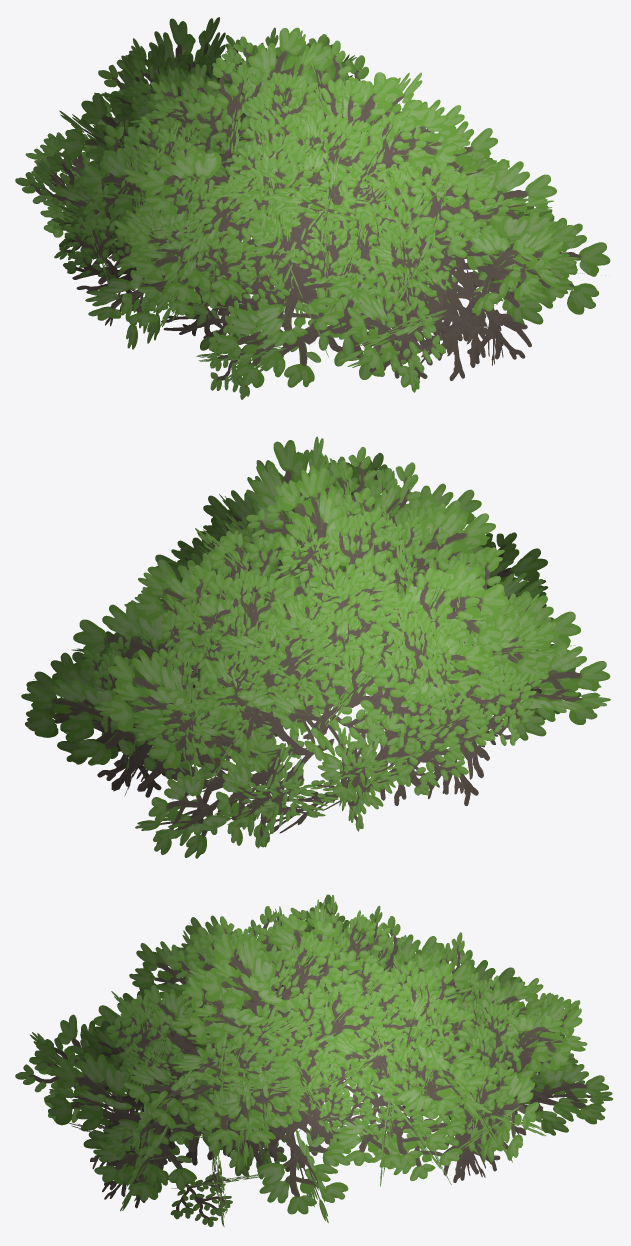
Rendered from SM_Bush_00.fbx.
The picture shows the model from 3 angles, top to bottom: view 1: azimuth 30°, elevation 25°; view 2: azimuth 150°, elevation 25°; view 3: azimuth 270°, elevation 25°; orthographic projection. The views are drawn at different scales.
Parts seen in each view (by area): view 1: Bush_00_LOD0; view 2: Bush_00_LOD0; view 3: Bush_00_LOD0.
Part boxes in pixels (<box>): Bush_00_LOD0: <box>15,17,610,399</box>; Bush_00_LOD0: <box>21,436,610,858</box>; Bush_00_LOD0: <box>15,894,613,1226</box>.
Size of what is drawn, in the model's own units: 60.14 by 35.44 by 73.29.
